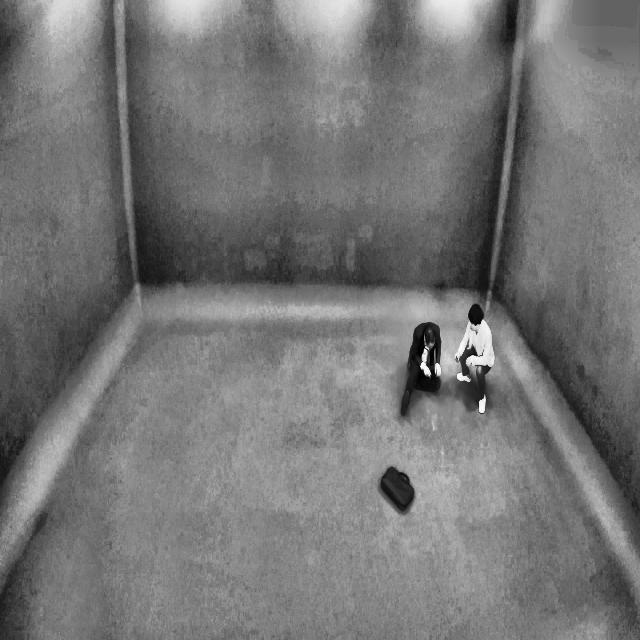assult: (398, 292, 488, 421)
